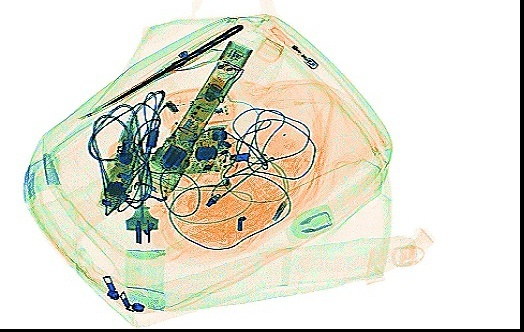knife: (74, 22, 244, 122)
lighter: (266, 25, 319, 70)
